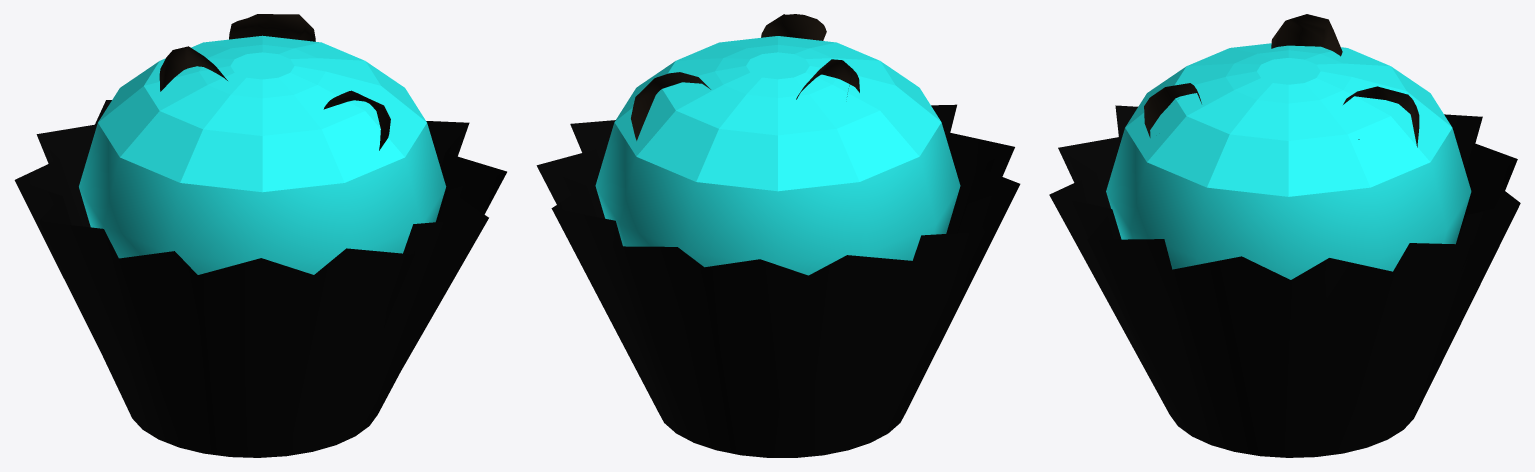
File: Muffin_3.fbx
The picture shows the model from 3 angles, left to right: view 1: azimuth 30°, elevation 25°; view 2: azimuth 150°, elevation 25°; view 3: azimuth 270°, elevation 25°; orthographic projection.
Parts seen in each view (by area): view 1: Cylinder032; view 2: Cylinder032; view 3: Cylinder032.
Part boxes in pixels (x1,y1,x2,y2): Cylinder032: [14, 14, 506, 457]; Cylinder032: [536, 14, 1020, 457]; Cylinder032: [1049, 14, 1520, 457].
Size of the model in its own units: 18.46 by 15.12 by 17.88.
